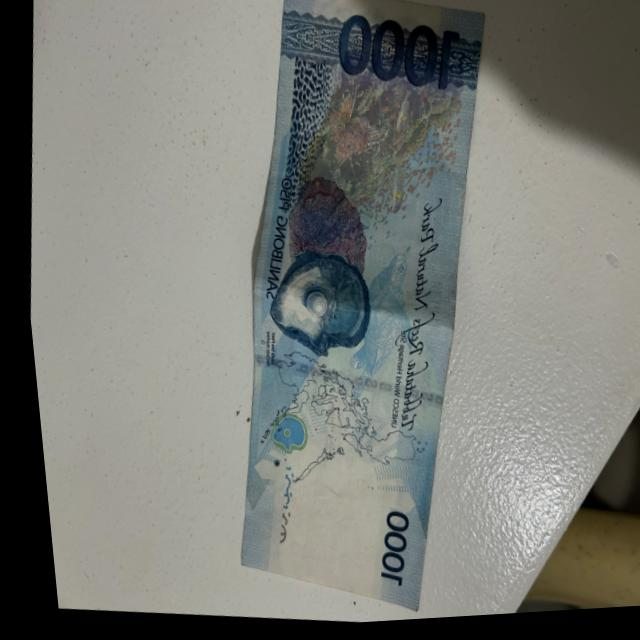1000_pearl: (258, 252, 364, 360)
1000_pearl_watermark: (256, 415, 301, 461)
watermark: (261, 450, 401, 617)
